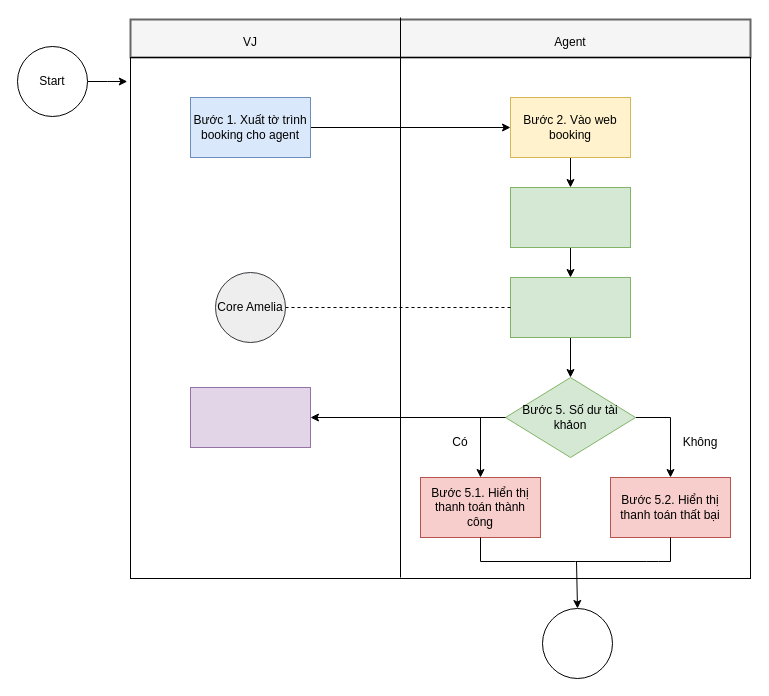
This 769x696 diagram has some shape labels left out. Here are the shapes that lost their labels. From the top down, the centre of each, then its label:
(x=570, y=217): Bước 3. Tạo booking và "vào tên"
(x=570, y=307): Bước 4. Chọn dịch vụ hỗ trợ cho từng hành khách
(x=250, y=417): Hiển thị thanh toán thành công
(x=577, y=643): End
